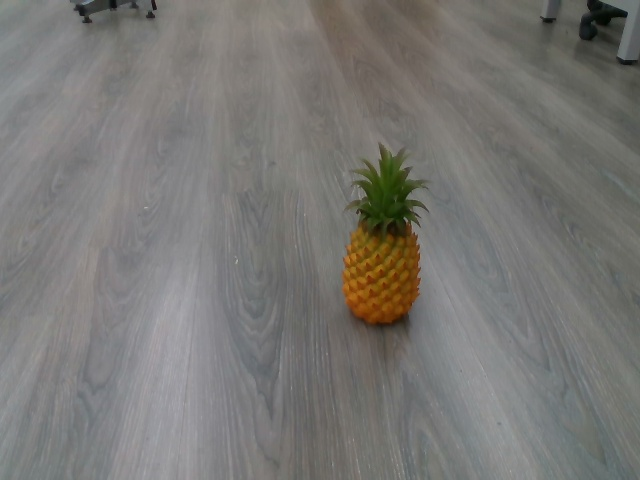pineapple: (338, 138, 433, 330)
